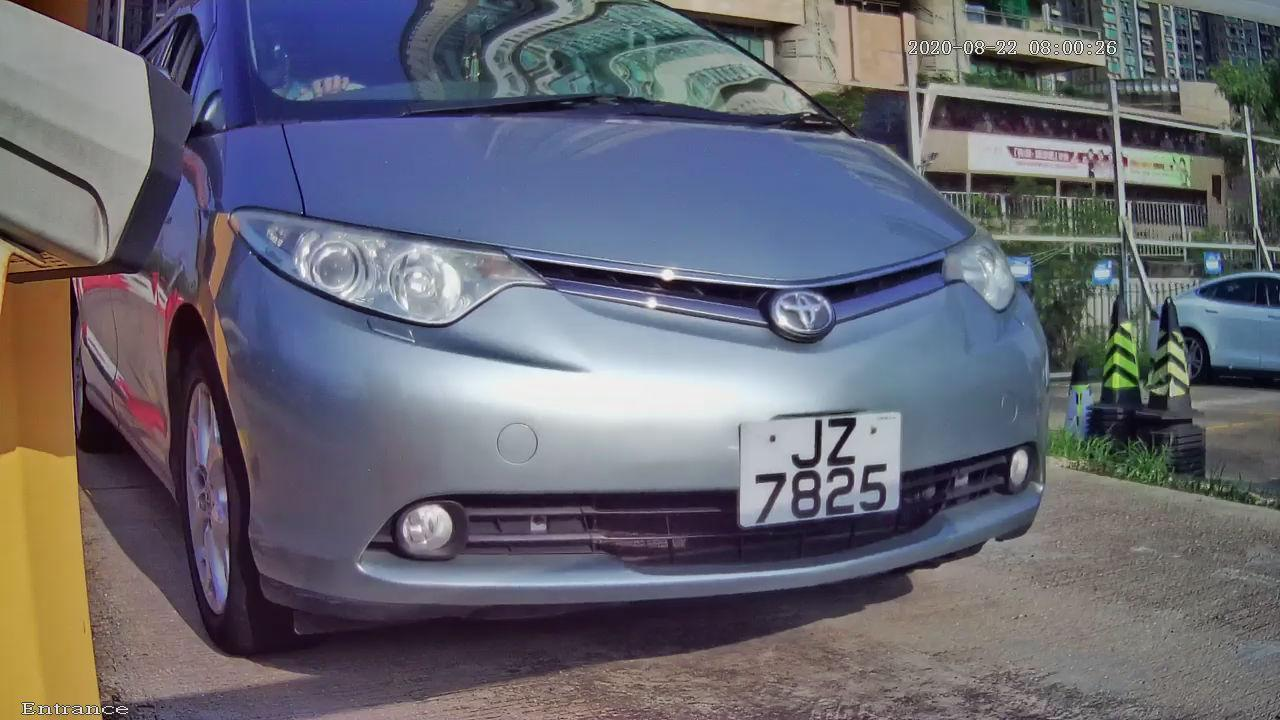License Plate: (732, 399, 915, 541)
